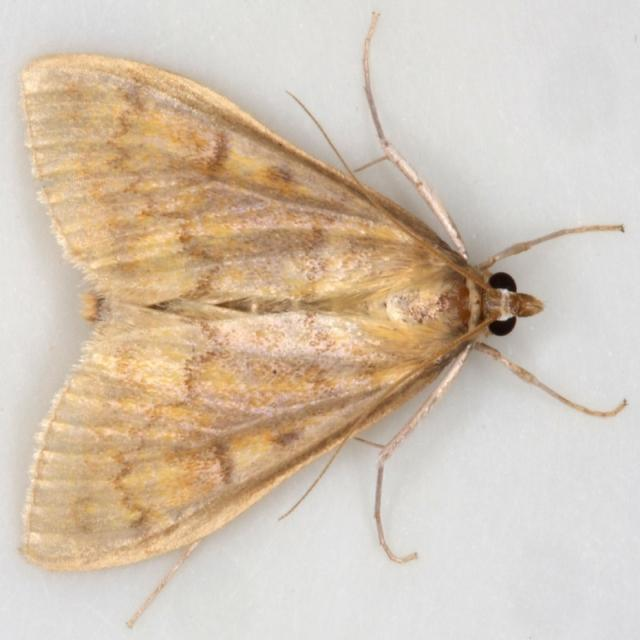cornborer-Adult-: (10, 29, 602, 591)
